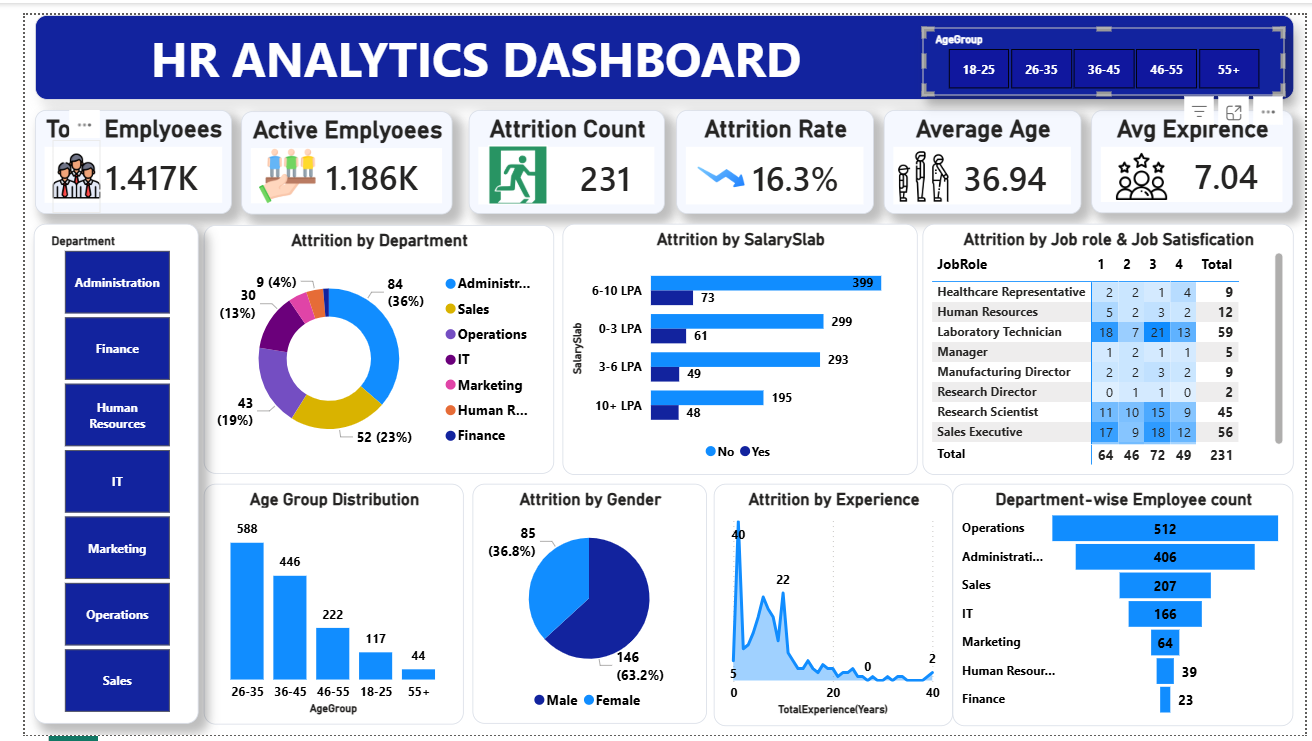

What the dashboard file says about the page in this screenshot:
{"tool":"powerbi","page":{"name":"Page 1","canvas":[1280,720],"ordinal":0},"visuals":[{"type":"textbox","box":[10,0,1259,85],"z":0},{"type":"cardVisual","title":"Total Emplyoees","fields":{"Data":["CountNonNull(HR_Analytics-4.EmpID)"]},"box":[10,95,197,104],"z":1000},{"type":"cardVisual","title":"Active Emplyoees","fields":{"Data":["CountNonNull(HR_Analytics-4.EmployeeCount)"]},"box":[216.8,96.1,211.3,102.9],"z":2000},{"type":"cardVisual","title":"Attrition Count","fields":{"Data":["Sum(HR_Analytics-4.Attritioncount)"]},"box":[443.2,94.7,196.2,104.3],"z":3000},{"type":"cardVisual","title":"Attrition Rate","fields":{"Data":["HR_Analytics-4.Attrition Rate %"]},"box":[651.8,94.7,197.6,104.3],"z":4000},{"type":"cardVisual","title":"Average Age","fields":{"Data":["Avg(HR_Analytics-4.Age)"]},"box":[859,94.7,197.6,104.3],"z":5000},{"type":"cardVisual","title":"Avg Expirence","fields":{"Data":["Avg(HR_Analytics-4.YearsatCompany)"]},"box":[1066.2,94.7,201.7,102.9],"z":6000},{"type":"image","box":[27.4,124.9,48,72.7],"z":7000},{"type":"image","box":[207.2,131.7,109.8,59],"z":8000},{"type":"image","box":[443.2,130.4,98.8,60.4],"z":9000},{"type":"image","box":[671,135.8,49.4,50.8],"z":10000},{"type":"image","box":[859,135.8,79.6,50.8],"z":11000},{"type":"image","box":[1084.1,135.8,65.9,50.8],"z":12000},{"type":"donutChart","title":"Attrition by Department","fields":{"Category":["HR_Analytics-4.Department"],"Y":["Sum(HR_Analytics-4.Attritioncount)"]},"box":[179,210,350,249],"z":13000},{"type":"clusteredBarChart","title":"Attrition by SalarySlab","fields":{"Category":["HR_Analytics-4.SalarySlab"],"Y":["CountNonNull(HR_Analytics-4.EmpID)"],"Series":["HR_Analytics-4.Attrition"]},"box":[537,209,355,251],"z":14000},{"type":"pivotTable","title":"Attrition by Job role & Job Satisfication","fields":{"Rows":["HR_Analytics-4.JobRole"],"Values":["Sum(HR_Analytics-4.Attritioncount)"],"Columns":["HR_Analytics-4.JobSatisfaction"]},"box":[898,209,371,251],"z":15000},{"type":"columnChart","title":"Age Group Distribution","fields":{"Category":["HR_Analytics-4.AgeGroup"],"Y":["Sum(HR_Analytics-4.EmployeeCount)"]},"box":[179.1,469,260,241],"z":16000},{"type":"pieChart","title":"Attrition by Gender","fields":{"Category":["HR_Analytics-4.Gender"],"Y":["Sum(HR_Analytics-4.Attritioncount)"]},"box":[448,469,234,240],"z":17000},{"type":"areaChart","title":" Attrition by Experience","fields":{"Y2":["Sum(HR_Analytics-4.Attritioncount)"],"Category":["HR_Analytics-4.TotalExperience(Years)"]},"box":[689,469,239,242],"z":18000},{"type":"funnel","title":"Department-wise Employee count","fields":{"Y":["CountNonNull(HR_Analytics-4.EmpID)"],"Category":["HR_Analytics-4.Department"]},"box":[928,469,341,242],"z":19000},{"type":"slicer","fields":{"Values":["HR_Analytics-4.Department"]},"box":[9,209,165,500],"z":20000},{"type":"slicer","fields":{"Values":["HR_Analytics-4.AgeGroup"]},"box":[898,12,361,68],"z":20001}]}

Visuals, with their boxes in screenshot pixels (x1, y1, x2, y2), scaled from the page's 1280x720 canvas onto the 1312x741 screenshot:
textbox: 10:0:1301:87
"Total Emplyoees" cardVisual: 10:98:212:205
"Active Emplyoees" cardVisual: 222:99:439:205
"Attrition Count" cardVisual: 454:97:655:205
"Attrition Rate" cardVisual: 668:97:871:205
"Average Age" cardVisual: 880:97:1083:205
"Avg Expirence" cardVisual: 1093:97:1300:203
image: 28:129:77:203
image: 212:136:325:196
image: 454:134:556:196
image: 688:140:738:192
image: 880:140:962:192
image: 1111:140:1179:192
"Attrition by Department" donutChart: 183:216:542:472
"Attrition by SalarySlab" clusteredBarChart: 550:215:914:473
"Attrition by Job role & Job Satisfication" pivotTable: 920:215:1301:473
"Age Group Distribution" columnChart: 184:483:450:731
"Attrition by Gender" pieChart: 459:483:699:730
" Attrition by Experience" areaChart: 706:483:951:732
"Department-wise Employee count" funnel: 951:483:1301:732
slicer - HR_Analytics-4.Department: 9:215:178:730
slicer - HR_Analytics-4.AgeGroup: 920:12:1290:82
